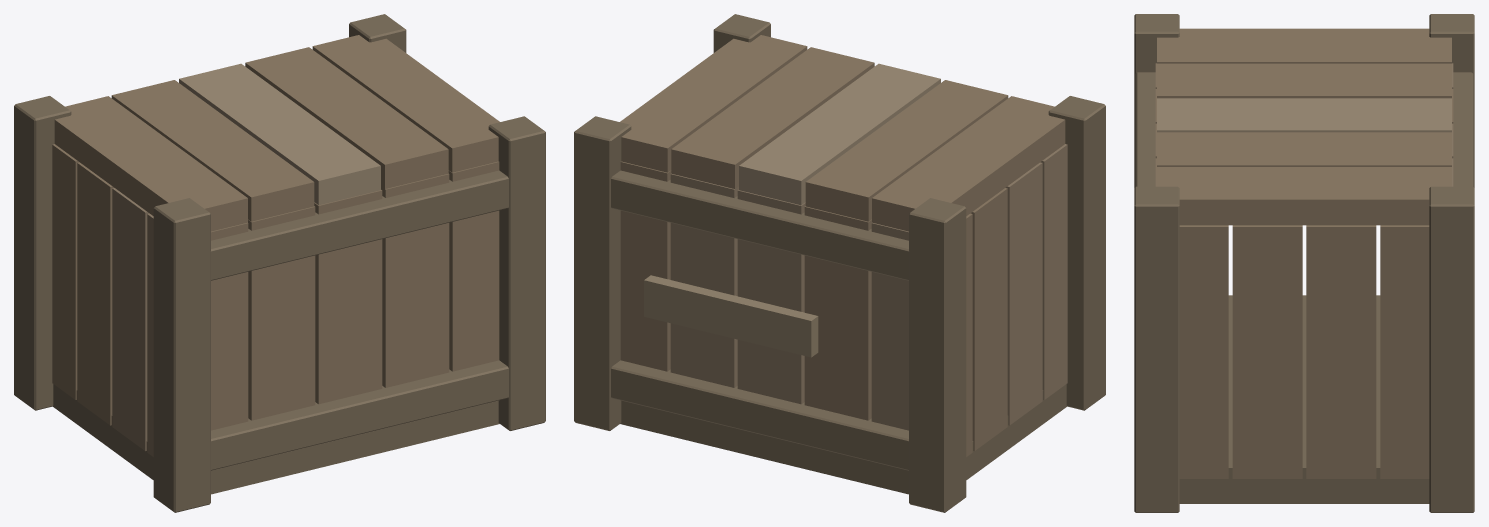
Rendered from env_crate_closed_a_r01.glb.
3 views of the same model, side by side, from view 1: azimuth 30°, elevation 25°; view 2: azimuth 150°, elevation 25°; view 3: azimuth 270°, elevation 25° (orthographic). The views are drawn at different scales.
Parts seen in each view (by area): view 1: material_0, material_2, material_1, material_5; view 2: material_2, material_0, material_5, material_1, material_6; view 3: material_0, material_2, material_1.
Part boxes in pixels (x1=…): material_0: x1=52, y1=35, x2=499, y2=469; material_2: x1=14, y1=14, x2=545, y2=512; material_1: x1=179, y1=63, x2=380, y2=205; material_5: x1=112, y1=188, x2=153, y2=456; material_2: x1=574, y1=14, x2=1105, y2=512; material_0: x1=620, y1=35, x2=1065, y2=459; material_5: x1=670, y1=144, x2=1067, y2=469; material_1: x1=739, y1=63, x2=940, y2=205; material_6: x1=644, y1=275, x2=818, y2=357; material_0: x1=1155, y1=28, x2=1453, y2=478; material_2: x1=1134, y1=14, x2=1474, y2=512; material_1: x1=1157, y1=98, x2=1451, y2=132.
Size of the model in its own units: 0.8 by 0.6 by 0.6.
